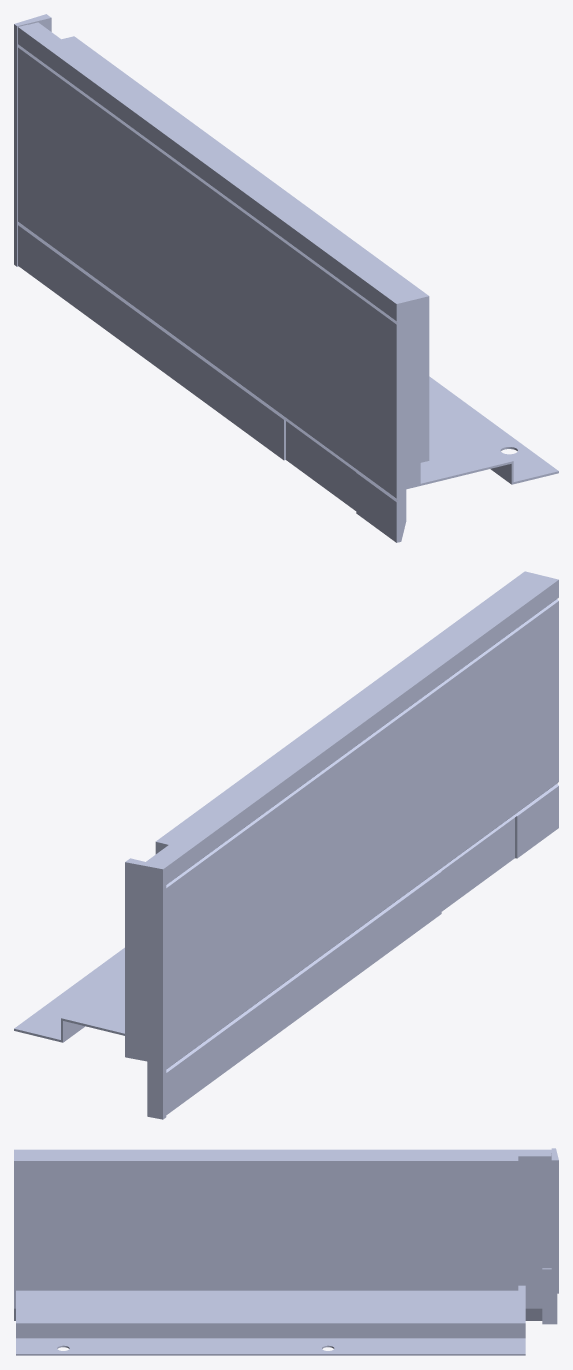
The model's file is lg-kava-M270-p.glb.
The picture shows the model from 3 angles, top to bottom: view 1: azimuth 30°, elevation 25°; view 2: azimuth 150°, elevation 25°; view 3: azimuth 270°, elevation 25°; orthographic projection. The views are drawn at different scales.
Parts seen in each view (by area): view 1: 42877016; view 2: 42877016; view 3: 42877016.
Part boxes in pixels (<box>): 42877016: <box>14,14,558,542</box>; 42877016: <box>14,571,558,1119</box>; 42877016: <box>14,1148,558,1355</box>.
Size of the model in its own units: 0.0653 by 0.0912 by 0.2635.
